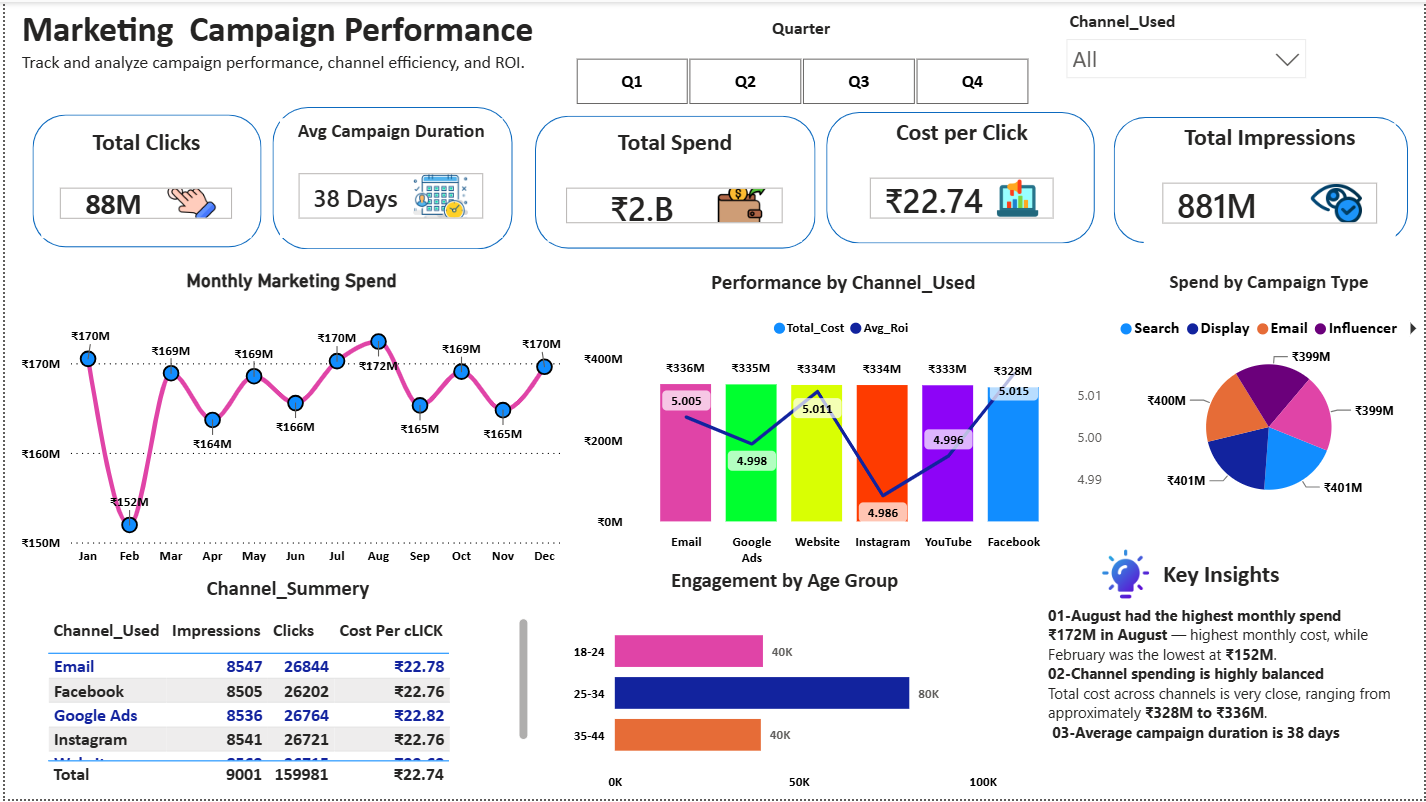

The page's visual inventory and layout, read from the dashboard file:
{"tool":"powerbi","page":{"name":"Page 1","canvas":[1280,720],"ordinal":0},"visuals":[{"type":"shape","box":[1000.3,103.9,265.4,113.7],"z":0},{"type":"shape","box":[24.5,101.5,206.7,119.8],"z":1000},{"type":"textbox","box":[9.8,0,536.8,101.5],"z":2000},{"type":"slicer","fields":{"Values":["marketing_campaign.Channel_Used"]},"box":[946.5,2.4,236,96.6],"z":3000},{"type":"cardVisual","title":"Total Clicks","fields":{"Data":["marketing_campaign.Total_Clicks"]},"box":[33,113.7,189.5,99],"z":4000},{"type":"shape","box":[240.9,94.2,216.4,128.4],"z":5000},{"type":"cardVisual","title":"Avg Campaign Duration","fields":{"Data":["marketing_campaign.Avg_Duration"]},"box":[248.2,105.2,200.5,107.6],"z":6000},{"type":"shape","box":[478.1,102.7,253.1,119.8],"z":7000},{"type":"cardVisual","title":"Total Spend","fields":{"Data":["marketing_campaign.Total Spend Display"]},"box":[489.1,113.7,229.9,102.7],"z":8000},{"type":"shape","box":[741,99,242.1,118.6],"z":9000},{"type":"cardVisual","title":"Cost per Click","fields":{"Data":["marketing_campaign.CPC"]},"box":[763,105.2,199.3,107.6],"z":10000},{"type":"cardVisual","title":"Total Impressions","fields":{"Data":["marketing_campaign.Total_Impressions"]},"box":[1027.2,108.8,227.4,107.6],"z":11000},{"type":"areaChart","title":"Monthly Marketing Spend","fields":{"Category":["marketing_campaign.Month_Name"],"Y":["marketing_campaign.Total_Cost"]},"box":[9.8,240.9,496.5,275.1],"z":12000},{"type":"lineClusteredColumnComboChart","title":"Performance by Channel_Used","fields":{"Category":["marketing_campaign.Channel_Used"],"Y":["marketing_campaign.Total_Cost"],"Y2":["marketing_campaign.Avg_Roi"]},"box":[517.3,240.9,476.9,275.1],"z":13000},{"type":"pieChart","title":"Spend by Campaign Type","fields":{"Category":["marketing_campaign.Campaign_Type"],"Y":["marketing_campaign.Total_Cost"]},"box":[1000.3,240.9,280,221.3],"z":14000},{"type":"tableEx","title":"Channel_Summery","fields":{"Values":["marketing_campaign.Channel_Used","Count(marketing_campaign.Impressions)","CountNonNull(marketing_campaign.Clicks)","marketing_campaign.CPC"]},"box":[32.9,517.3,444.6,193.5],"z":15000},{"type":"textbox","box":[1039.4,497.7,126,40.4],"z":16000},{"type":"image","box":[981.9,492.8,57.5,46.5],"z":17000},{"type":"clusteredBarChart","title":"Engagement by Age Group","fields":{"Category":["marketing_campaign.Age_Group"],"Y":["CountNonNull(marketing_campaign.Gender)"]},"box":[506.3,509.9,393.8,210.3],"z":18000},{"type":"textbox","box":[935.5,539.3,330.2,181],"z":19000},{"type":"slicer","title":"Quarter","fields":{"Values":["marketing_campaign.Quarter Label"]},"box":[489.1,13.5,457.3,85.6],"z":20000}]}

Visuals, with their boxes in screenshot pixels (x1, y1, x2, y2), scaled from the page's 1280x720 canvas onto the 1426x802 screenshot:
shape: (left=1114, top=116, right=1410, bottom=242)
shape: (left=27, top=113, right=258, bottom=247)
textbox: (left=11, top=0, right=609, bottom=113)
slicer - marketing_campaign.Channel_Used: (left=1054, top=3, right=1317, bottom=110)
"Total Clicks" cardVisual: (left=37, top=127, right=248, bottom=237)
shape: (left=268, top=105, right=509, bottom=248)
"Avg Campaign Duration" cardVisual: (left=277, top=117, right=500, bottom=237)
shape: (left=533, top=114, right=815, bottom=248)
"Total Spend" cardVisual: (left=545, top=127, right=801, bottom=241)
shape: (left=826, top=110, right=1095, bottom=242)
"Cost per Click" cardVisual: (left=850, top=117, right=1072, bottom=237)
"Total Impressions" cardVisual: (left=1144, top=121, right=1398, bottom=241)
"Monthly Marketing Spend" areaChart: (left=11, top=268, right=564, bottom=575)
"Performance by Channel_Used" lineClusteredColumnComboChart: (left=576, top=268, right=1108, bottom=575)
"Spend by Campaign Type" pieChart: (left=1114, top=268, right=1425, bottom=515)
"Channel_Summery" tableEx: (left=37, top=576, right=532, bottom=792)
textbox: (left=1158, top=554, right=1298, bottom=599)
image: (left=1094, top=549, right=1158, bottom=601)
"Engagement by Age Group" clusteredBarChart: (left=564, top=568, right=1003, bottom=801)
textbox: (left=1042, top=601, right=1410, bottom=801)
"Quarter" slicer: (left=545, top=15, right=1054, bottom=110)
